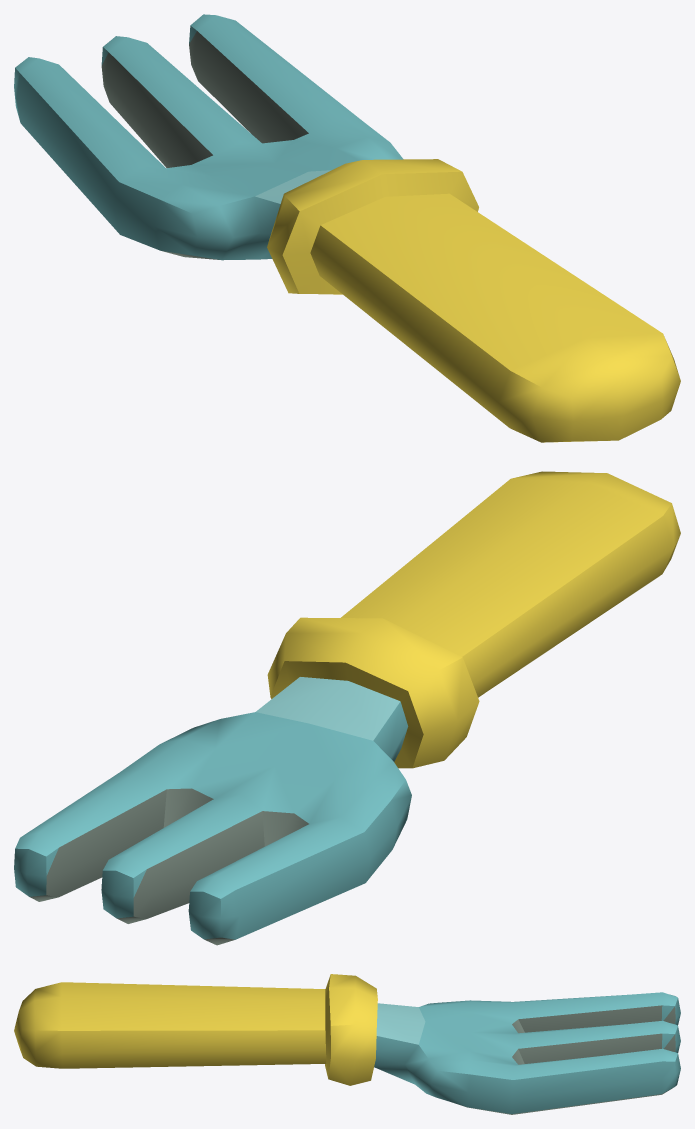
Rendered from itch_tiny_pleasant_picnic_fork.glb.
3 renders of one model, top to bottom at view 1: azimuth 30°, elevation 25°; view 2: azimuth 150°, elevation 25°; view 3: azimuth 270°, elevation 25°, orthographic. The views are drawn at different scales.
Visible parts, largest first — view 1: fork; view 2: fork; view 3: fork.
Boxes of the visible parts, x1,y1,x2,y2 form: fork: [14, 14, 680, 442]; fork: [14, 471, 680, 945]; fork: [14, 974, 680, 1114].
Bounding box in the file's own units: 0.1217 × 0.0682 × 0.42.
